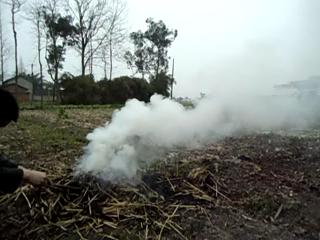yanwu: (73, 57, 296, 181)
